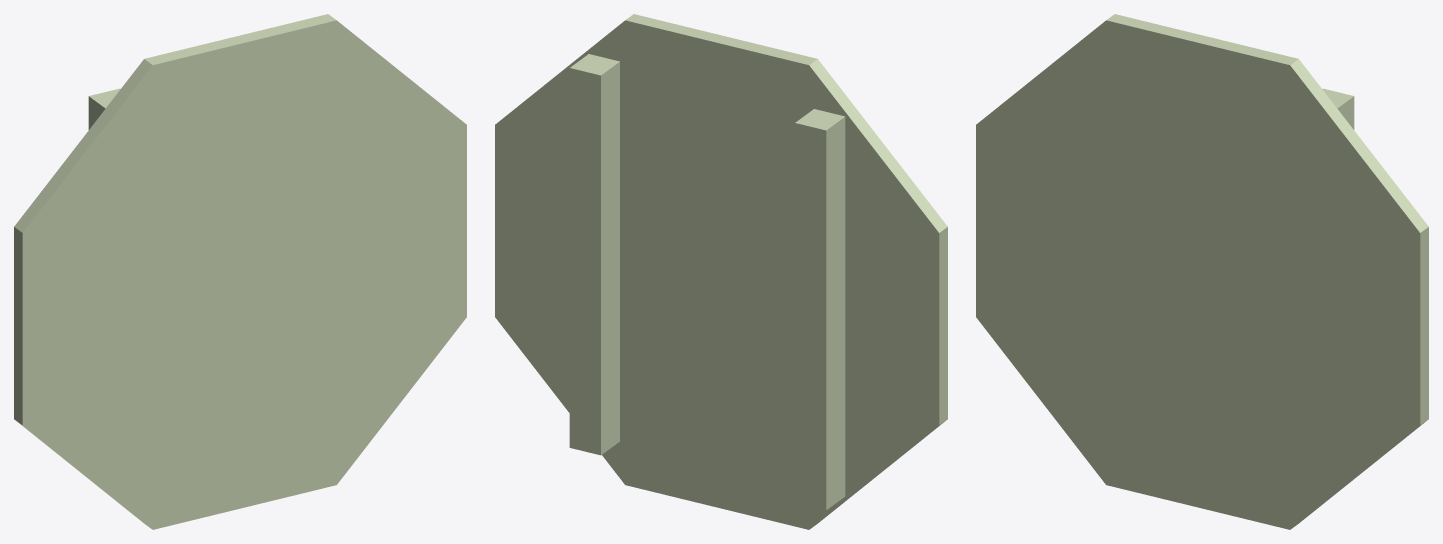
Rendered from furniture_sign_back_octagon.glb.
3 renders of one model, left to right at view 1: azimuth 30°, elevation 25°; view 2: azimuth 150°, elevation 25°; view 3: azimuth 330°, elevation 25°, orthographic.
Visible parts, largest first — view 1: back_plate, stiffener_0; view 2: back_plate, stiffener_1, stiffener_0; view 3: back_plate, stiffener_1.
Boxes of the visible parts, x1,y1,x2,y2 form: back_plate: [14, 14, 466, 529]; stiffener_0: [88, 88, 120, 129]; back_plate: [495, 14, 947, 529]; stiffener_1: [569, 54, 619, 455]; stiffener_0: [795, 109, 845, 510]; back_plate: [976, 14, 1428, 529]; stiffener_1: [1322, 88, 1354, 129].
Bounding box in the file's own units: 0.7095 × 0.7095 × 0.077.
